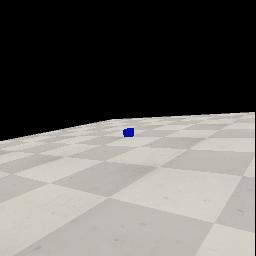box: (123, 128, 134, 137)
